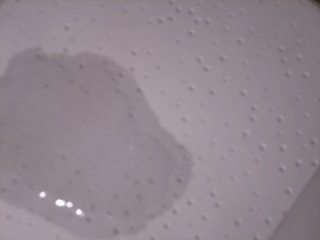Water_detected: (0, 76, 156, 211)
